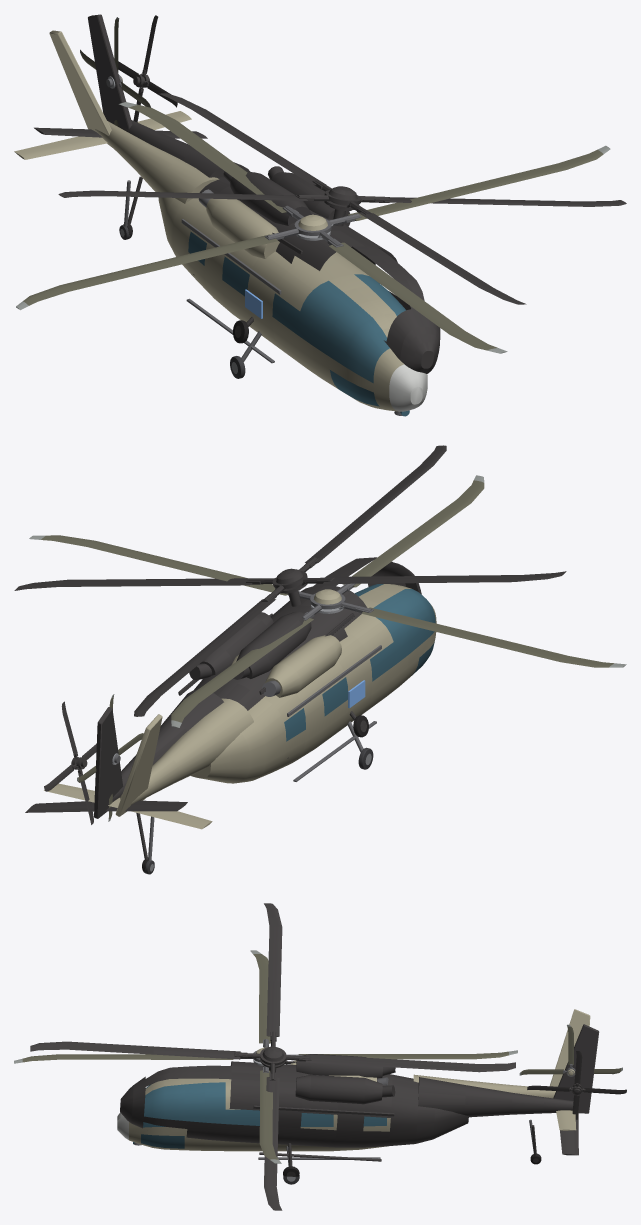
Rendered from helicopter__uh_60_yanshuf.glb.
The picture shows the model from 3 angles, top to bottom: view 1: azimuth 30°, elevation 25°; view 2: azimuth 150°, elevation 25°; view 3: azimuth 270°, elevation 25°; orthographic projection. The views are drawn at different scales.
Parts seen in each view (by area): view 1: Fuselage_Mesh, Wreck, Rotor_Main_Mesh, Engines_Mesh, Landing_Gear_Mesh, Rotor_Tail_Mesh; view 2: Fuselage_Mesh, Wreck, Rotor_Main_Mesh, Engines_Mesh, Landing_Gear_Mesh; view 3: Wreck, Fuselage_Mesh, Rotor_Main_Mesh, Rotor_Tail_Mesh.
Part boxes in pixels (x1=…): Fuselage_Mesh: x1=14, y1=30, x2=427, y2=416; Wreck: x1=34, y1=14, x2=626, y2=373; Rotor_Main_Mesh: x1=16, y1=102, x2=610, y2=353; Engines_Mesh: x1=198, y1=189, x2=279, y2=258; Landing_Gear_Mesh: x1=119, y1=180, x2=261, y2=378; Rotor_Tail_Mesh: x1=80, y1=17, x2=150, y2=126; Fuselage_Mesh: x1=44, y1=584, x2=436, y2=829; Wreck: x1=14, y1=445, x2=566, y2=872; Rotor_Main_Mesh: x1=29, y1=475, x2=626, y2=727; Engines_Mesh: x1=231, y1=635, x2=341, y2=697; Landing_Gear_Mesh: x1=144, y1=721, x2=373, y2=874; Wreck: x1=30, y1=903, x2=626, y2=1210; Fuselage_Mesh: x1=117, y1=1009, x2=590, y2=1159; Rotor_Main_Mesh: x1=14, y1=950, x2=517, y2=1163; Rotor_Tail_Mesh: x1=519, y1=1024, x2=622, y2=1076.
Size of what is drawn, in the model's own units: 16.77 by 6.2 by 19.9.
